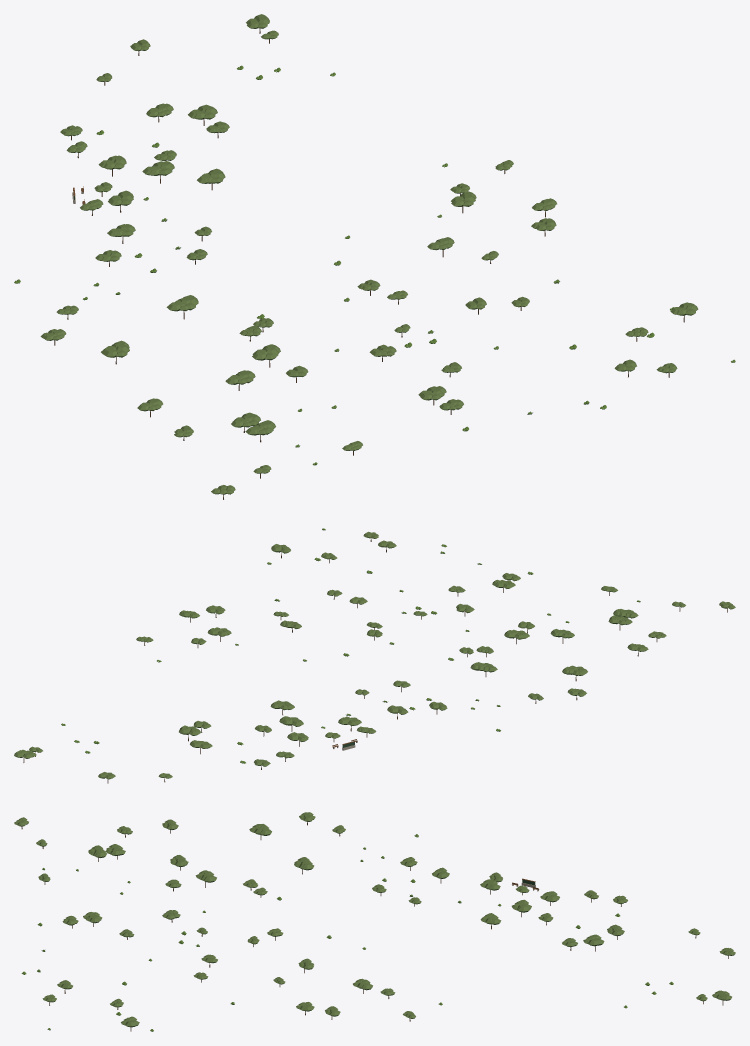
File: RamseyTrailhead.glb
3 renders of one model, top to bottom at view 1: azimuth 30°, elevation 25°; view 2: azimuth 150°, elevation 25°; view 3: azimuth 270°, elevation 25°, orthographic. The views are drawn at different scales.
Visible parts, largest first — view 1: RamseyTrailhead; view 2: RamseyTrailhead; view 3: RamseyTrailhead.
Boxes of the visible parts, <box> form: RamseyTrailhead: <box>14,14,735,499</box>; RamseyTrailhead: <box>14,528,735,783</box>; RamseyTrailhead: <box>14,812,735,1031</box>.
Bounding box in the file's own units: 135 × 8.37 × 198.
